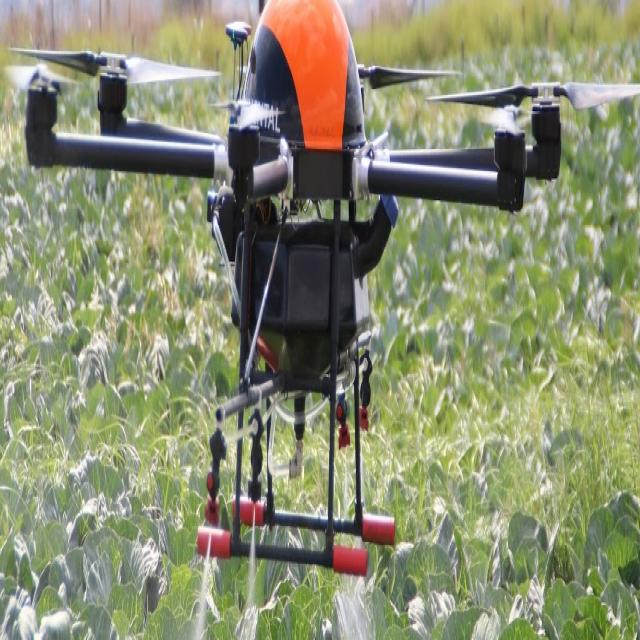drone: (0, 3, 640, 628)
